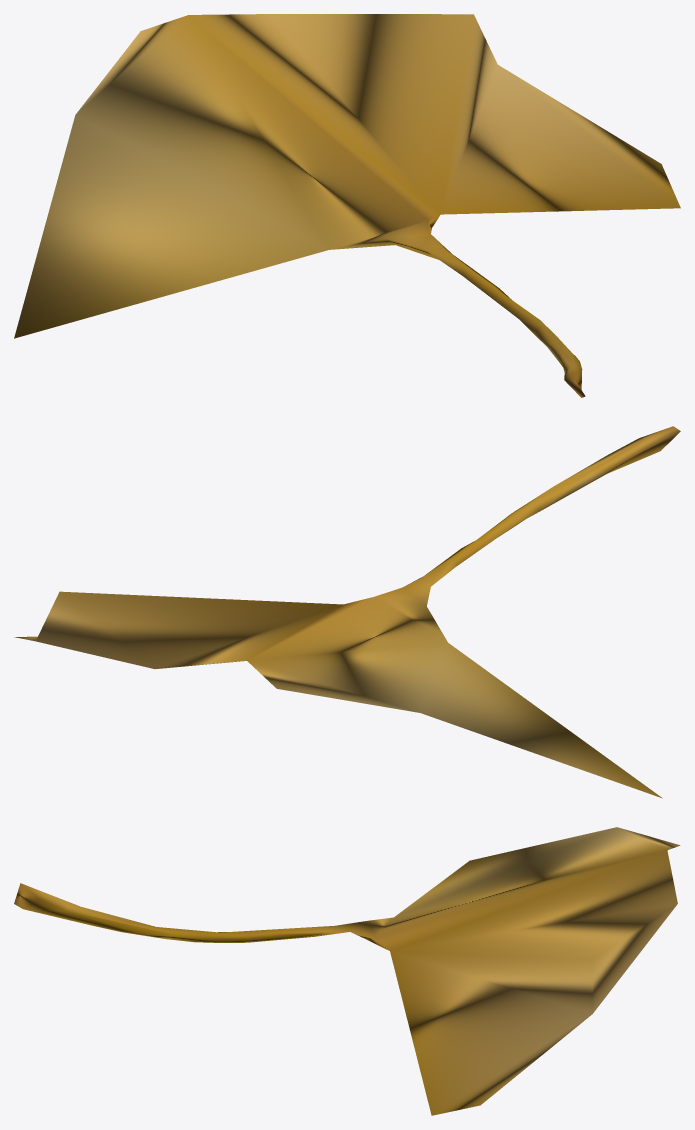
Rendered from leaf.glb.
3 renders of one model, top to bottom at view 1: azimuth 30°, elevation 25°; view 2: azimuth 150°, elevation 25°; view 3: azimuth 270°, elevation 25°, orthographic. The views are drawn at different scales.
Parts seen in each view (by area): view 1: object; view 2: object; view 3: object.
Boxes of the visible parts, <box> form: object: <box>14,14,680,397</box>; object: <box>14,426,680,798</box>; object: <box>14,827,680,1115</box>.
Size of the model in its own units: 0.1613 by 0.0396 by 0.18.
